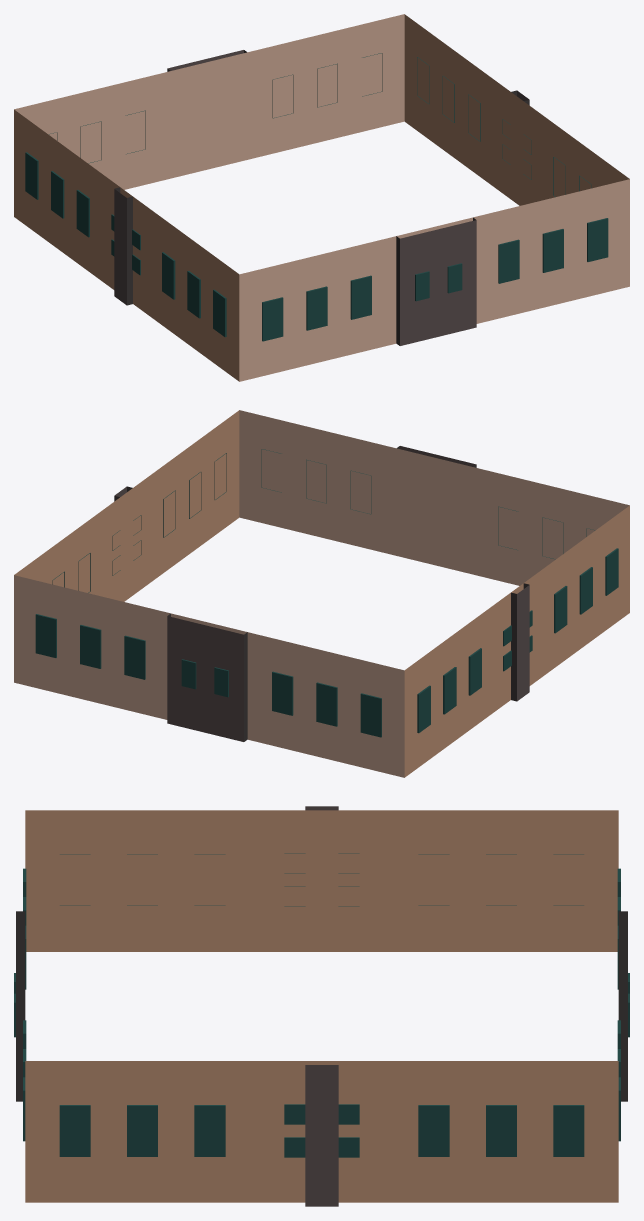
File: TB_CITY_Skysc_Q_LowerBodyA_Brown.FBX
3 views of the same model, one above another, from view 1: azimuth 30°, elevation 25°; view 2: azimuth 150°, elevation 25°; view 3: azimuth 270°, elevation 25° (orthographic). The views are drawn at different scales.
Parts seen in each view (by area): view 1: TB_CITY_Skysc_Q_LowerBodyA_Brown; view 2: TB_CITY_Skysc_Q_LowerBodyA_Brown; view 3: TB_CITY_Skysc_Q_LowerBodyA_Brown.
Part boxes in pixels (x1,y1,x2,y2): TB_CITY_Skysc_Q_LowerBodyA_Brown: [14, 14, 629, 381]; TB_CITY_Skysc_Q_LowerBodyA_Brown: [14, 410, 629, 777]; TB_CITY_Skysc_Q_LowerBodyA_Brown: [14, 806, 629, 1206].
Size of the model in its own units: 19.6 by 5 by 19.73.
